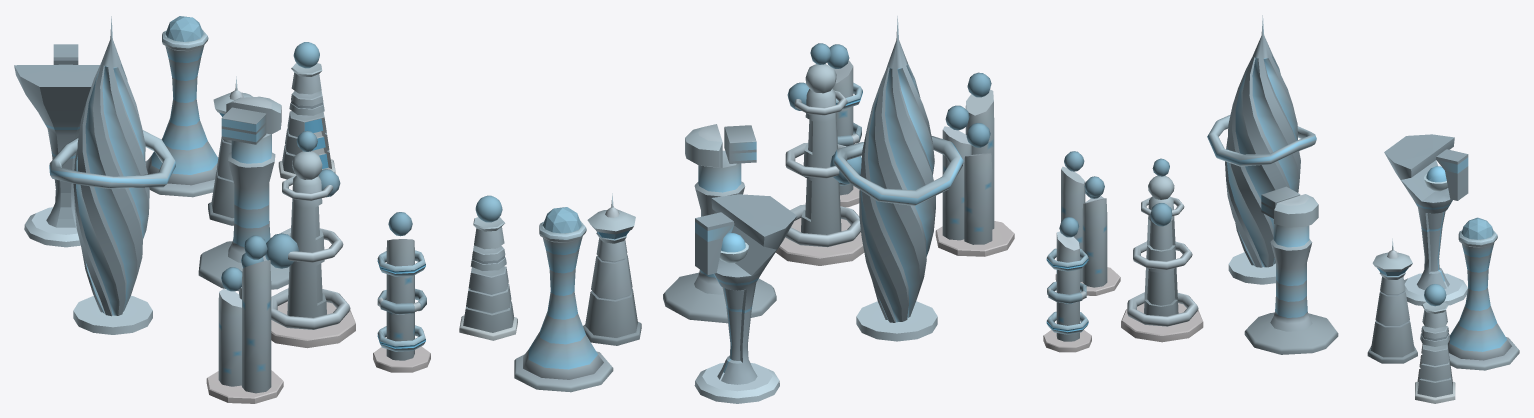
Rendered from Buildings.fbx.
The picture shows the model from 3 angles, left to right: view 1: azimuth 30°, elevation 25°; view 2: azimuth 150°, elevation 25°; view 3: azimuth 270°, elevation 25°; orthographic projection. The views are drawn at different scales.
Parts seen in each view (by area): view 1: Buildings_mesh_mesh; view 2: Buildings_mesh_mesh; view 3: Buildings_mesh_mesh.
Part boxes in pixels (x1,y1,x2,y2): Buildings_mesh_mesh: (14, 16, 430, 403); Buildings_mesh_mesh: (459, 16, 1014, 403); Buildings_mesh_mesh: (1043, 15, 1519, 403).
Bounding box in the file's own units: 16985 × 12991 × 21833.
